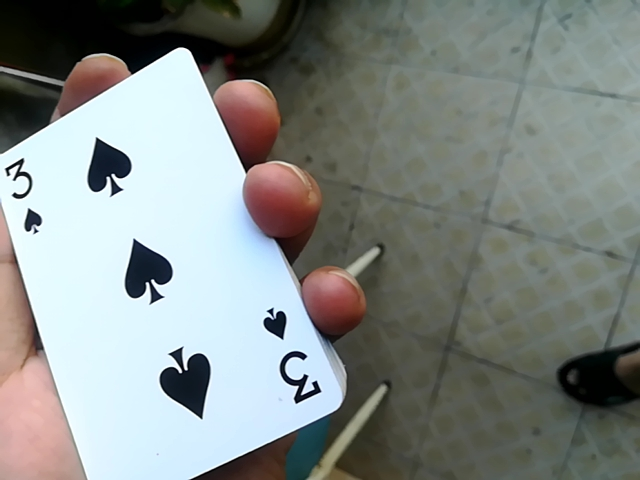ht 3: (0, 33, 346, 480)
